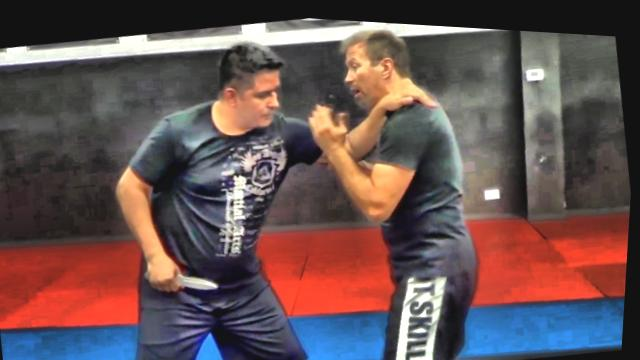knife: (145, 255, 225, 300)
